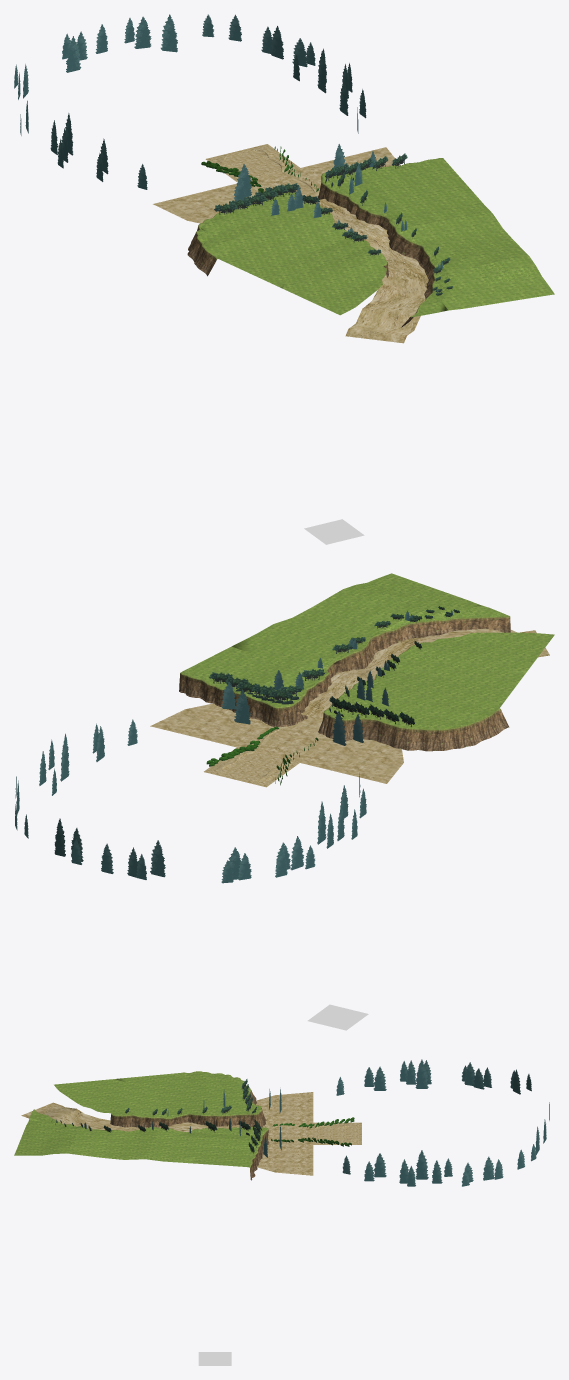
3 views of the same model, one above another, from view 1: azimuth 30°, elevation 25°; view 2: azimuth 150°, elevation 25°; view 3: azimuth 270°, elevation 25° (orthographic). The views are drawn at different scales.
Parts seen in each view (by area): view 1: _0_Cliff_Top_0_1_16_16, _0_Ground2_0_1_16_16, _1_Tree2_0_1_16_16, _0_Cliff_0_1_16_16, _1_Trees4_0_1_16_16, Quad_Graveyard; view 2: _0_Cliff_Top_0_1_16_16, _0_Ground2_0_1_16_16, _0_Cliff_0_1_16_16, _1_Tree2_0_1_16_16, _1_Trees4_0_1_16_16, Quad_Graveyard, _1_Plant_Bush_0_1_16_16; view 3: _0_Cliff_Top_0_1_16_16, _0_Ground2_0_1_16_16, _1_Tree2_0_1_16_16, _0_Cliff_0_1_16_16, _1_Trees4_0_1_16_16, _1_Plant_Bush_0_1_16_16, Quad_Graveyard.
Part boxes in pixels (x1,y1,x2,y2): _0_Cliff_Top_0_1_16_16: (198,158,554,316); _0_Ground2_0_1_16_16: (153,144,428,343); _1_Tree2_0_1_16_16: (14,14,442,292); _0_Cliff_0_1_16_16: (187,158,436,327); _1_Trees4_0_1_16_16: (214,153,453,295); Quad_Graveyard: (304,519,364,544); _0_Cliff_Top_0_1_16_16: (181,573,554,729); _0_Ground2_0_1_16_16: (150,628,549,787); _0_Cliff_0_1_16_16: (179,616,510,751); _1_Tree2_0_1_16_16: (15,610,452,883); _1_Trees4_0_1_16_16: (209,606,459,726); Quad_Graveyard: (307,1004,368,1030); _1_Plant_Bush_0_1_16_16: (206,726,318,785); _0_Cliff_Top_0_1_16_16: (14,1071,267,1167); _0_Ground2_0_1_16_16: (21,1092,361,1175); _1_Tree2_0_1_16_16: (56,1059,549,1186); _0_Cliff_0_1_16_16: (34,1071,269,1180); _1_Trees4_0_1_16_16: (51,1079,260,1153); _1_Plant_Bush_0_1_16_16: (271,1117,354,1146); Quad_Graveyard: (198,1352,231,1365).
Size of the model in its own units: 130 by 146 by 280.
7 materials, 7 textured.
